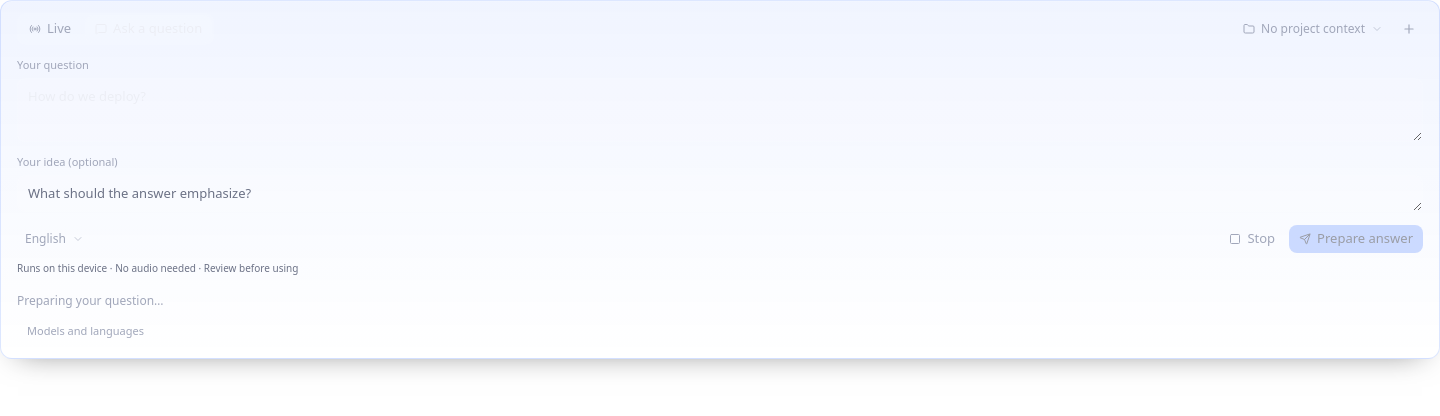
Test: shows a cancellation failure without discarding the question
Click the button with aria-label "Cancel answer": {"x": 1252, "y": 238} [1219,224,1285,252]
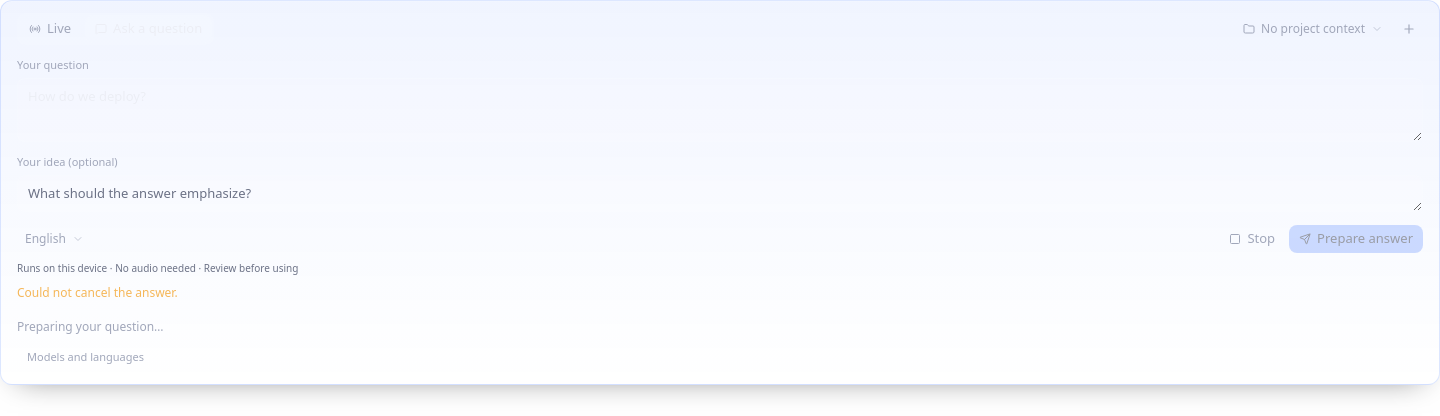
Expected: the text box labelled "Your question" holds "How do we deploy?", [17,78,1423,142]
Expected: the text "Could not cancel the answer." is shown, [17,284,178,300]
